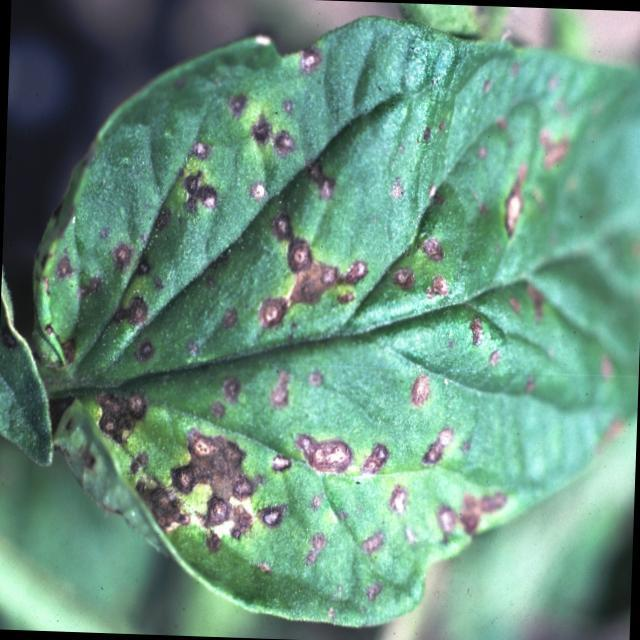Septoria: (41, 56, 599, 598)
